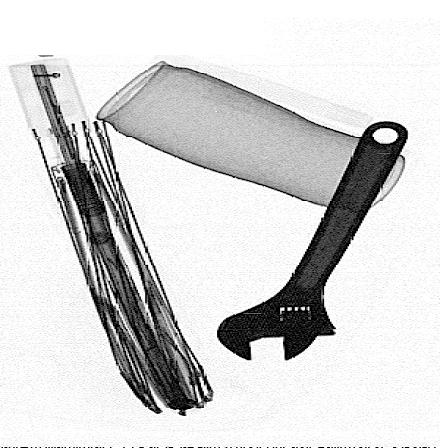Wrench: (213, 120, 408, 362)
